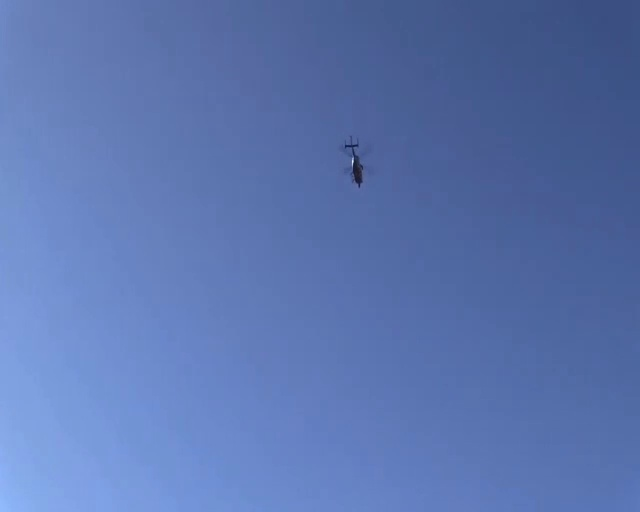HELICOPTER: (340, 132, 373, 188)
